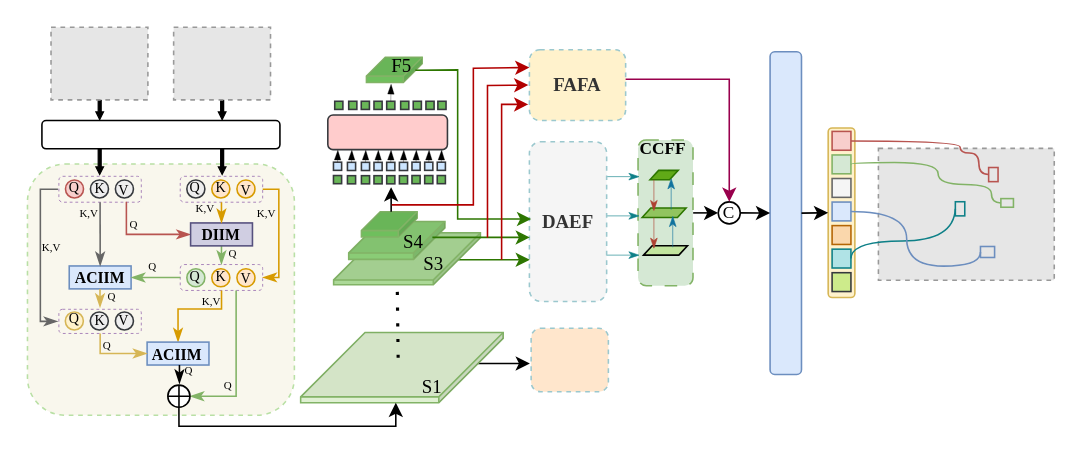
The diagram is 1082 pixels wide and 468 high, and some of its shapes have lost their labels. Grey dashed boxes stand in for pictures. Here are the shapes that lost their labels. From the top down, the box of each, then its label:
(40, 119, 280, 149): Shared Backbone
(326, 113, 447, 150): AIFI
(360, 210, 417, 237): S5
(769, 50, 801, 374): Query & Decoder Module
(530, 327, 608, 392): CCM
